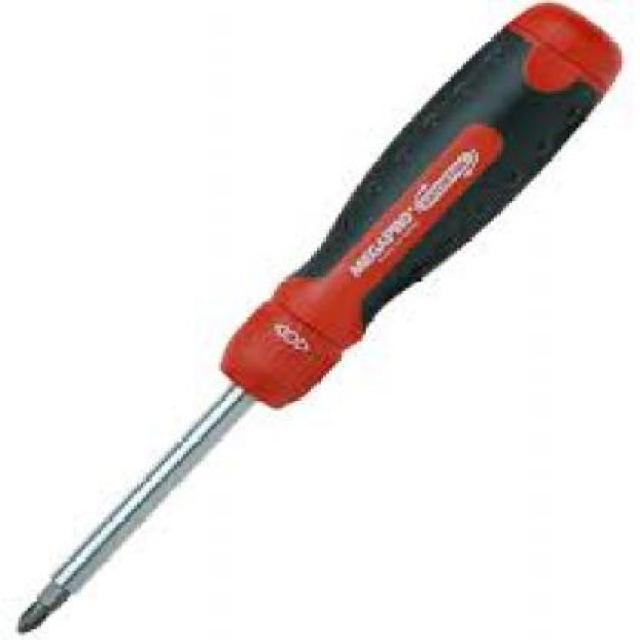screwdriver: (15, 4, 624, 640)
